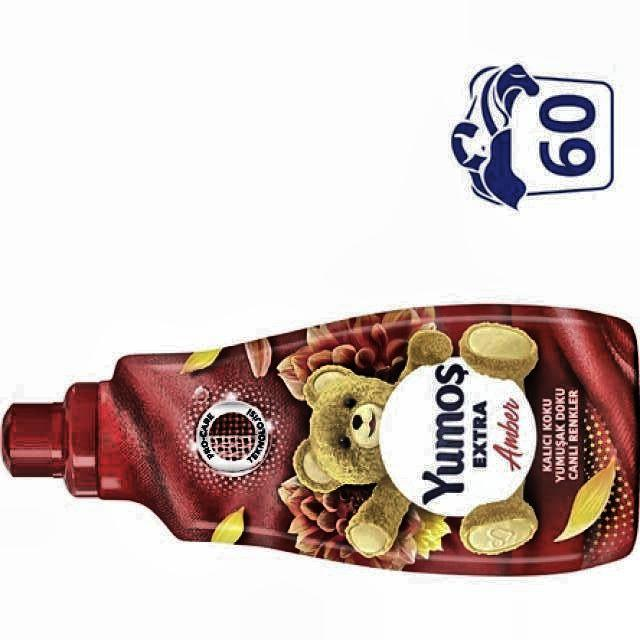plastic: (2, 305, 640, 574)
